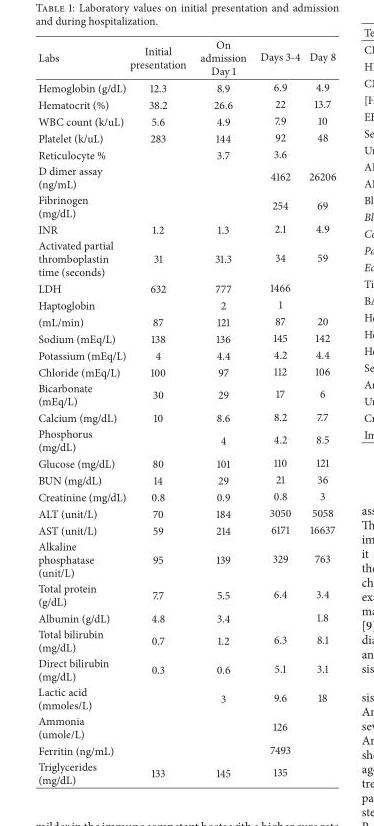table: (37, 36, 335, 787)
table column: (37, 36, 127, 787), (127, 36, 192, 787), (192, 36, 252, 787), (252, 36, 303, 787), (303, 36, 335, 787)
table column header: (37, 36, 335, 78)
table row: (37, 36, 335, 78), (37, 237, 335, 279), (37, 538, 335, 580), (37, 162, 335, 191), (37, 191, 335, 220), (37, 379, 335, 408), (37, 425, 335, 454), (37, 580, 335, 609), (37, 625, 335, 654), (37, 654, 335, 683), (37, 683, 335, 712), (37, 712, 335, 741), (37, 758, 335, 787), (37, 78, 335, 95), (37, 95, 335, 112), (37, 112, 335, 129), (37, 145, 335, 162), (37, 220, 335, 237), (37, 279, 335, 296), (37, 312, 335, 329), (37, 329, 335, 346), (37, 346, 335, 363), (37, 408, 335, 425), (37, 454, 335, 471), (37, 487, 335, 504), (37, 504, 335, 521), (37, 521, 335, 538), (37, 741, 335, 758), (37, 129, 335, 145), (37, 296, 335, 312), (37, 363, 335, 379), (37, 471, 335, 487), (37, 609, 335, 625)
